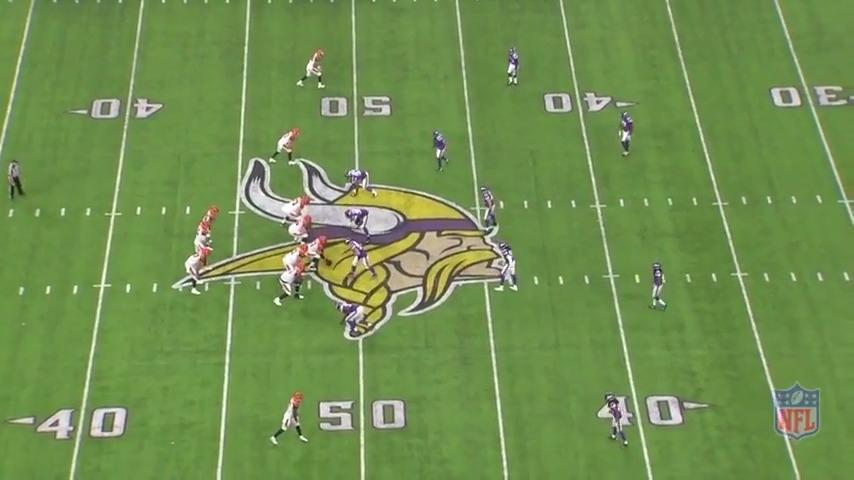player: (269, 391, 314, 449), (178, 239, 216, 296), (598, 392, 634, 451), (293, 46, 328, 93), (336, 297, 373, 341), (273, 265, 309, 310), (347, 237, 380, 284), (194, 202, 222, 257), (268, 125, 304, 167), (497, 238, 523, 294), (477, 183, 502, 239), (341, 167, 380, 201), (302, 233, 336, 272), (281, 197, 314, 237), (648, 259, 670, 316), (342, 205, 377, 237), (616, 109, 637, 160), (505, 45, 525, 91), (430, 127, 449, 175), (284, 247, 315, 275), (290, 208, 313, 245), (192, 220, 210, 256)
ref: (5, 158, 26, 204)
